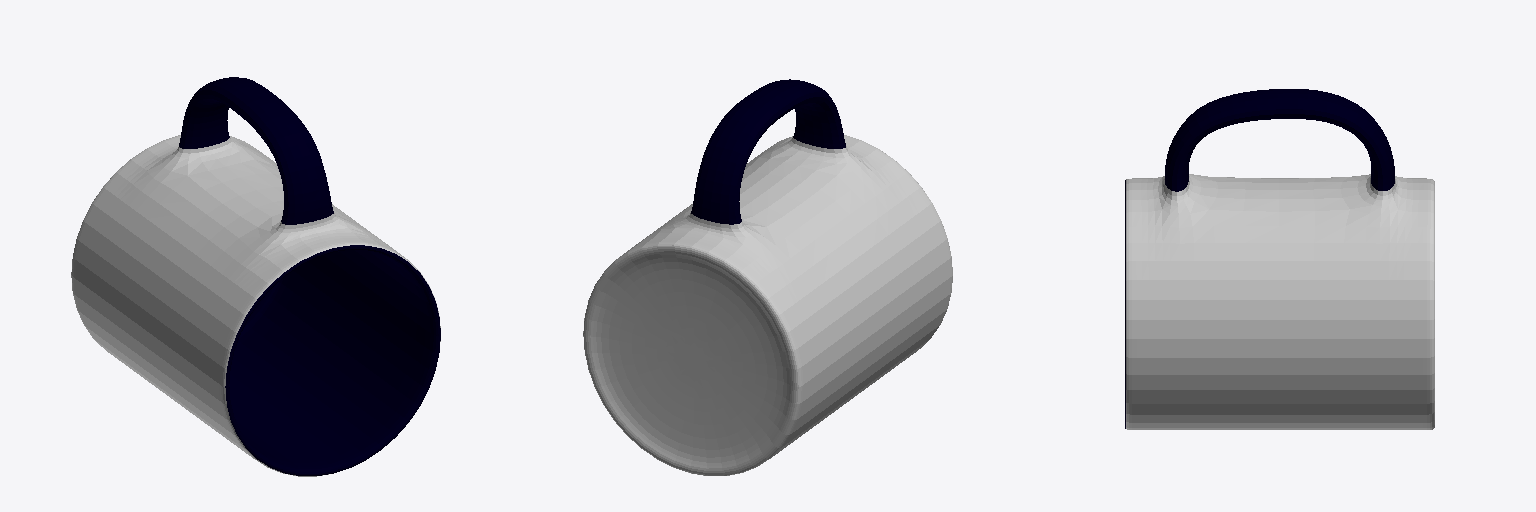
3 views of the same model, side by side, from view 1: azimuth 30°, elevation 25°; view 2: azimuth 150°, elevation 25°; view 3: azimuth 270°, elevation 25° (orthographic).
Visible parts, largest first — view 1: Mug; view 2: Mug; view 3: Mug.
Boxes of the visible parts, x1,y1,x2,y2 form: Mug: [71, 77, 440, 476]; Mug: [583, 79, 952, 475]; Mug: [1125, 89, 1434, 429].
Bounding box in the file's own units: 0.0777 × 0.1106 × 0.0957.